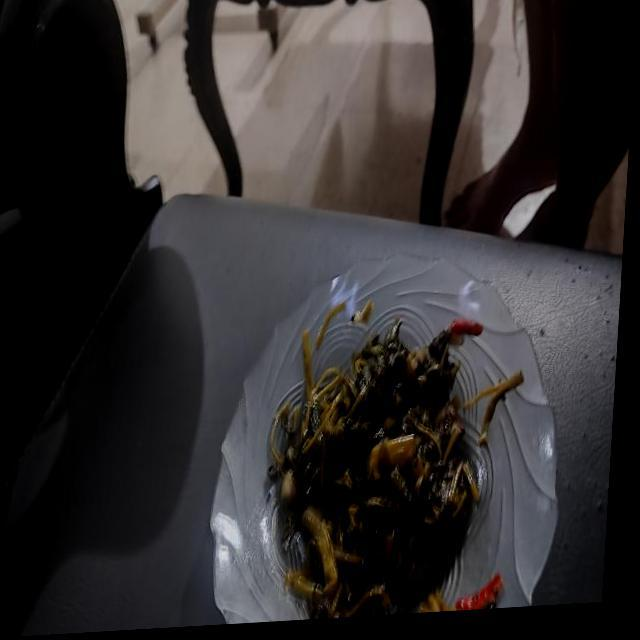tumis_kangkung: (268, 319, 486, 618)
